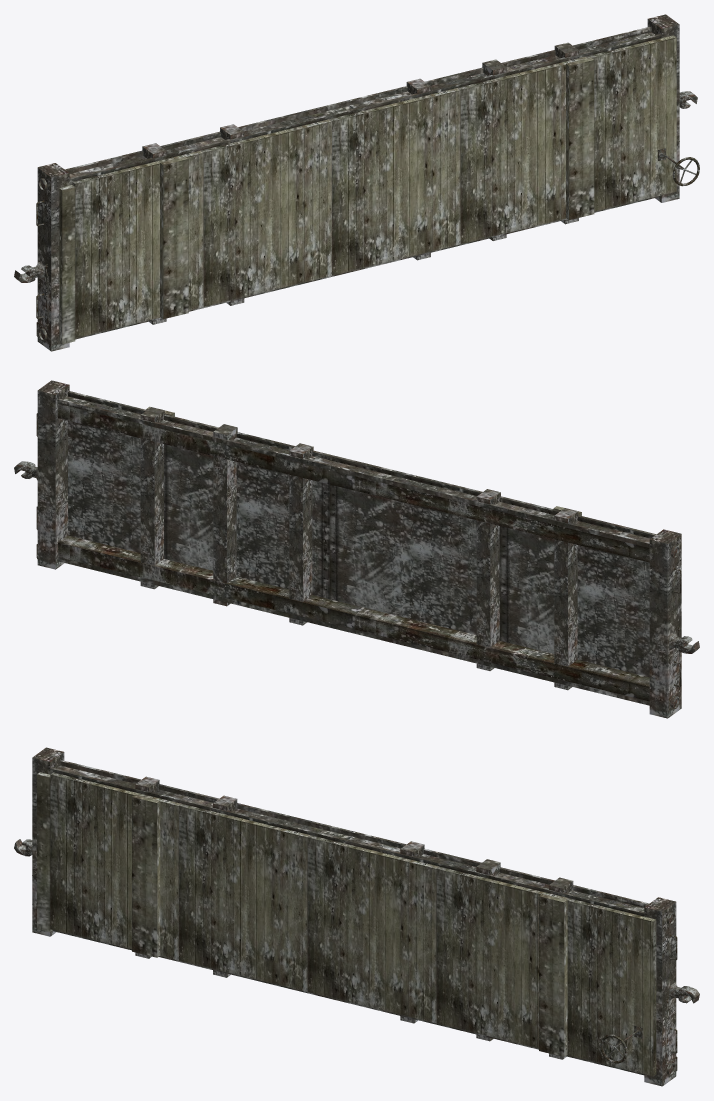
Rendered from prop_traincar_flat_snow.glb.
The picture shows the model from 3 angles, top to bottom: view 1: azimuth 30°, elevation 25°; view 2: azimuth 150°, elevation 25°; view 3: azimuth 330°, elevation 25°; orthographic projection.
Bounding box in the file's own units: 397 × 97.54 × 42.55.
Materials: 1 (1 with a texture image).
